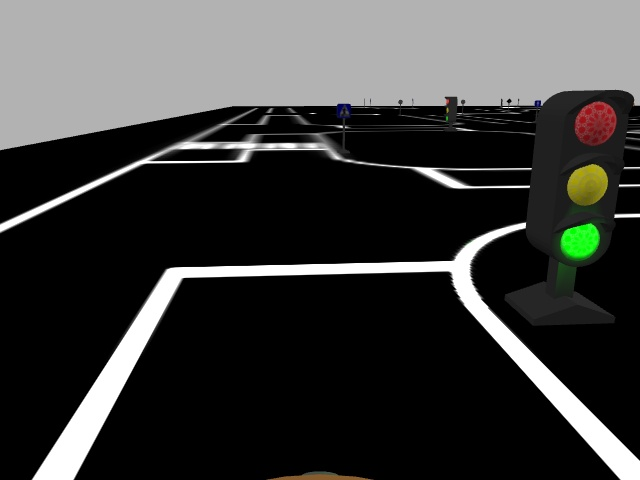green_light: (540, 87, 634, 275)
